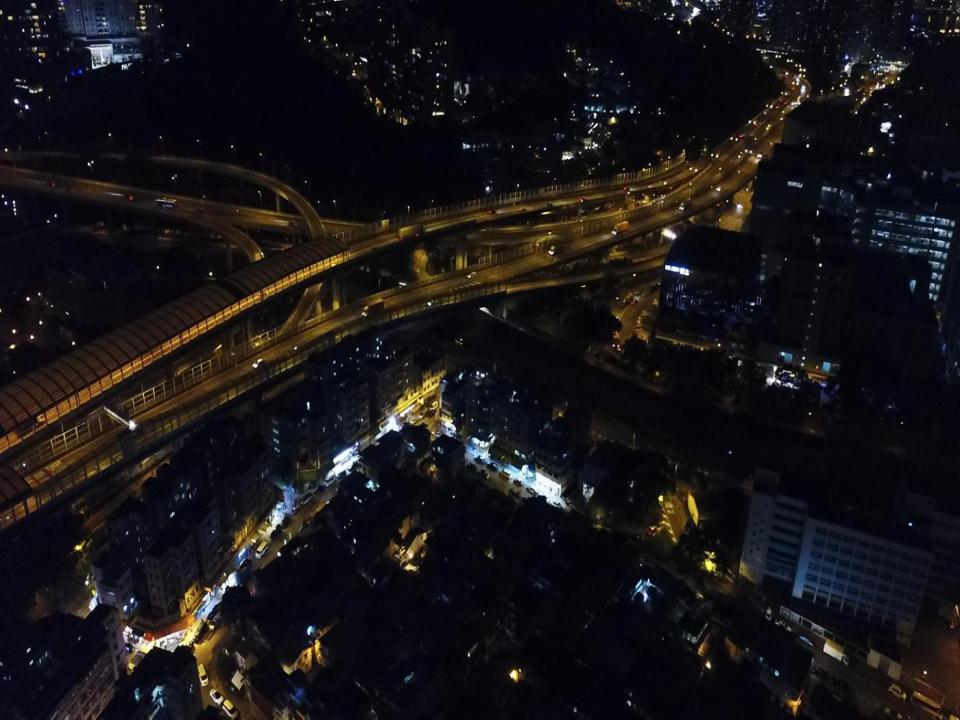bus: (910, 690, 943, 719), (156, 196, 179, 211), (610, 326, 622, 353), (254, 540, 269, 559)
car: (828, 673, 858, 698), (887, 682, 908, 700), (798, 629, 816, 648), (222, 699, 239, 719), (208, 611, 224, 632), (811, 664, 829, 682), (208, 688, 224, 705), (774, 617, 792, 632), (206, 603, 219, 623), (300, 491, 314, 505), (252, 357, 266, 370), (645, 522, 658, 535), (323, 472, 335, 486), (477, 468, 490, 480), (526, 485, 540, 496), (485, 461, 498, 472), (473, 454, 486, 464), (121, 192, 135, 201), (314, 483, 325, 494), (409, 416, 420, 426), (513, 477, 524, 487), (427, 408, 437, 418), (466, 270, 478, 278), (431, 430, 443, 437), (466, 463, 478, 470), (516, 205, 528, 212), (488, 207, 497, 215), (630, 298, 638, 306)
truck: (823, 638, 853, 667), (744, 595, 773, 621), (360, 297, 384, 321), (398, 221, 426, 241), (192, 620, 208, 644), (611, 220, 629, 237), (621, 290, 634, 309)
van: (196, 663, 209, 687), (548, 241, 566, 257), (678, 197, 694, 211), (499, 467, 513, 480), (417, 407, 428, 420), (428, 399, 439, 412)
